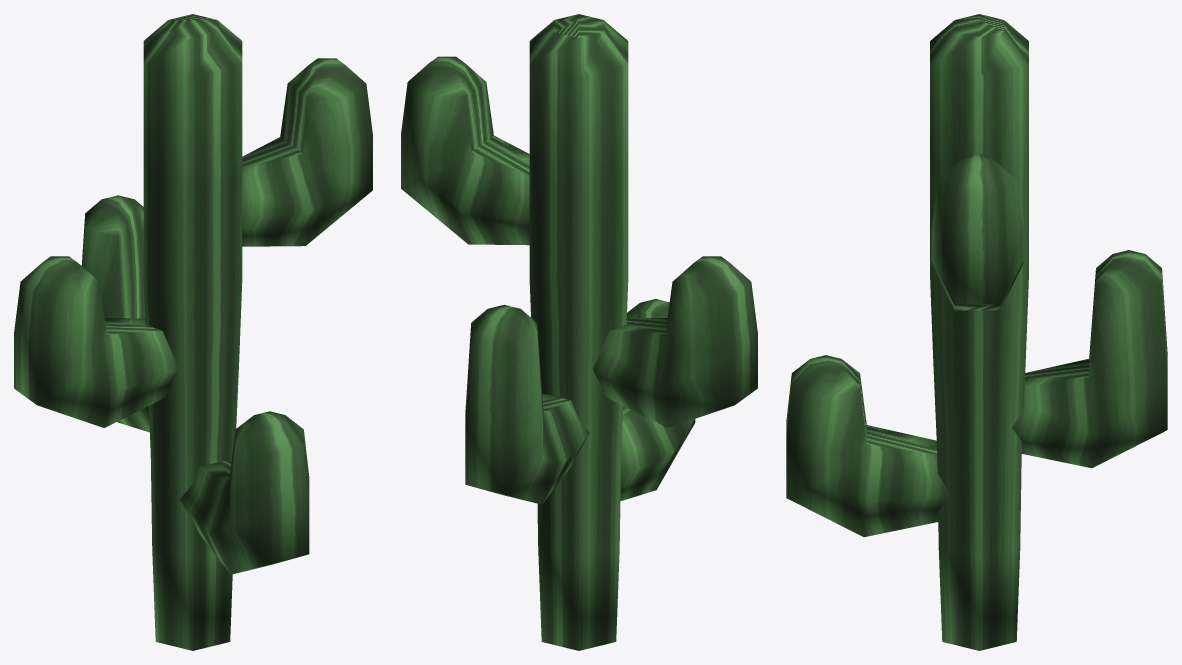
The model's file is Cactus_3.FBX.
3 renders of one model, left to right at view 1: azimuth 30°, elevation 25°; view 2: azimuth 150°, elevation 25°; view 3: azimuth 270°, elevation 25°, orthographic.
Parts seen in each view (by area): view 1: Cactus_3; view 2: Cactus_3; view 3: Cactus_3.
Boxes of the visible parts, x1,y1,x2,y2 form: Cactus_3: (14,14,372,650); Cactus_3: (401,14,757,650); Cactus_3: (786,14,1167,650).
Bounding box in the file's own units: 7.23 × 7.14 × 12.65.
